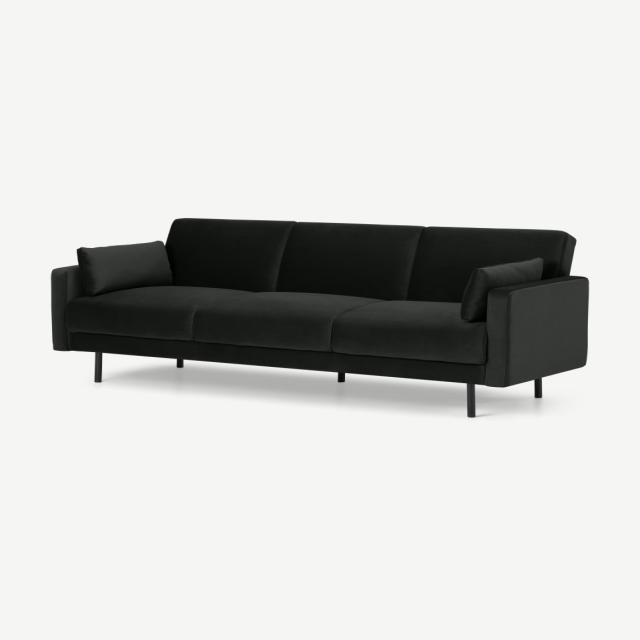back_cushion: (77, 219, 575, 321)
left_arm: (484, 276, 588, 386)
legs: (467, 384, 475, 417), (94, 352, 101, 383), (536, 380, 541, 398), (338, 372, 345, 383), (176, 359, 184, 368)
right_arm: (51, 265, 84, 350)
seat_cushion: (65, 286, 487, 383)
stallion-sofa: (0, 0, 639, 639)
